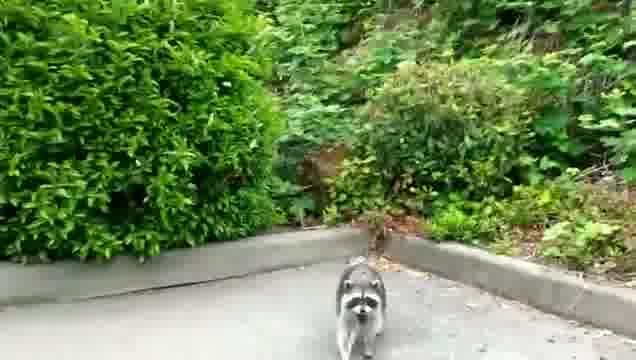raccoon: (333, 261, 389, 360)
